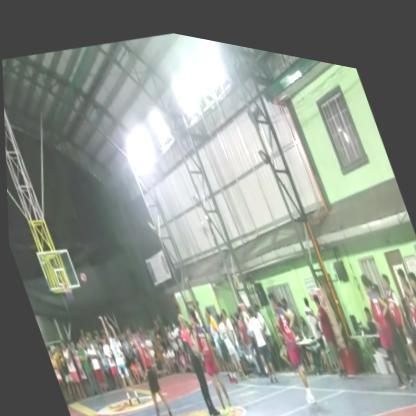basketball: (75, 264, 88, 283)
rim: (54, 273, 78, 308)
